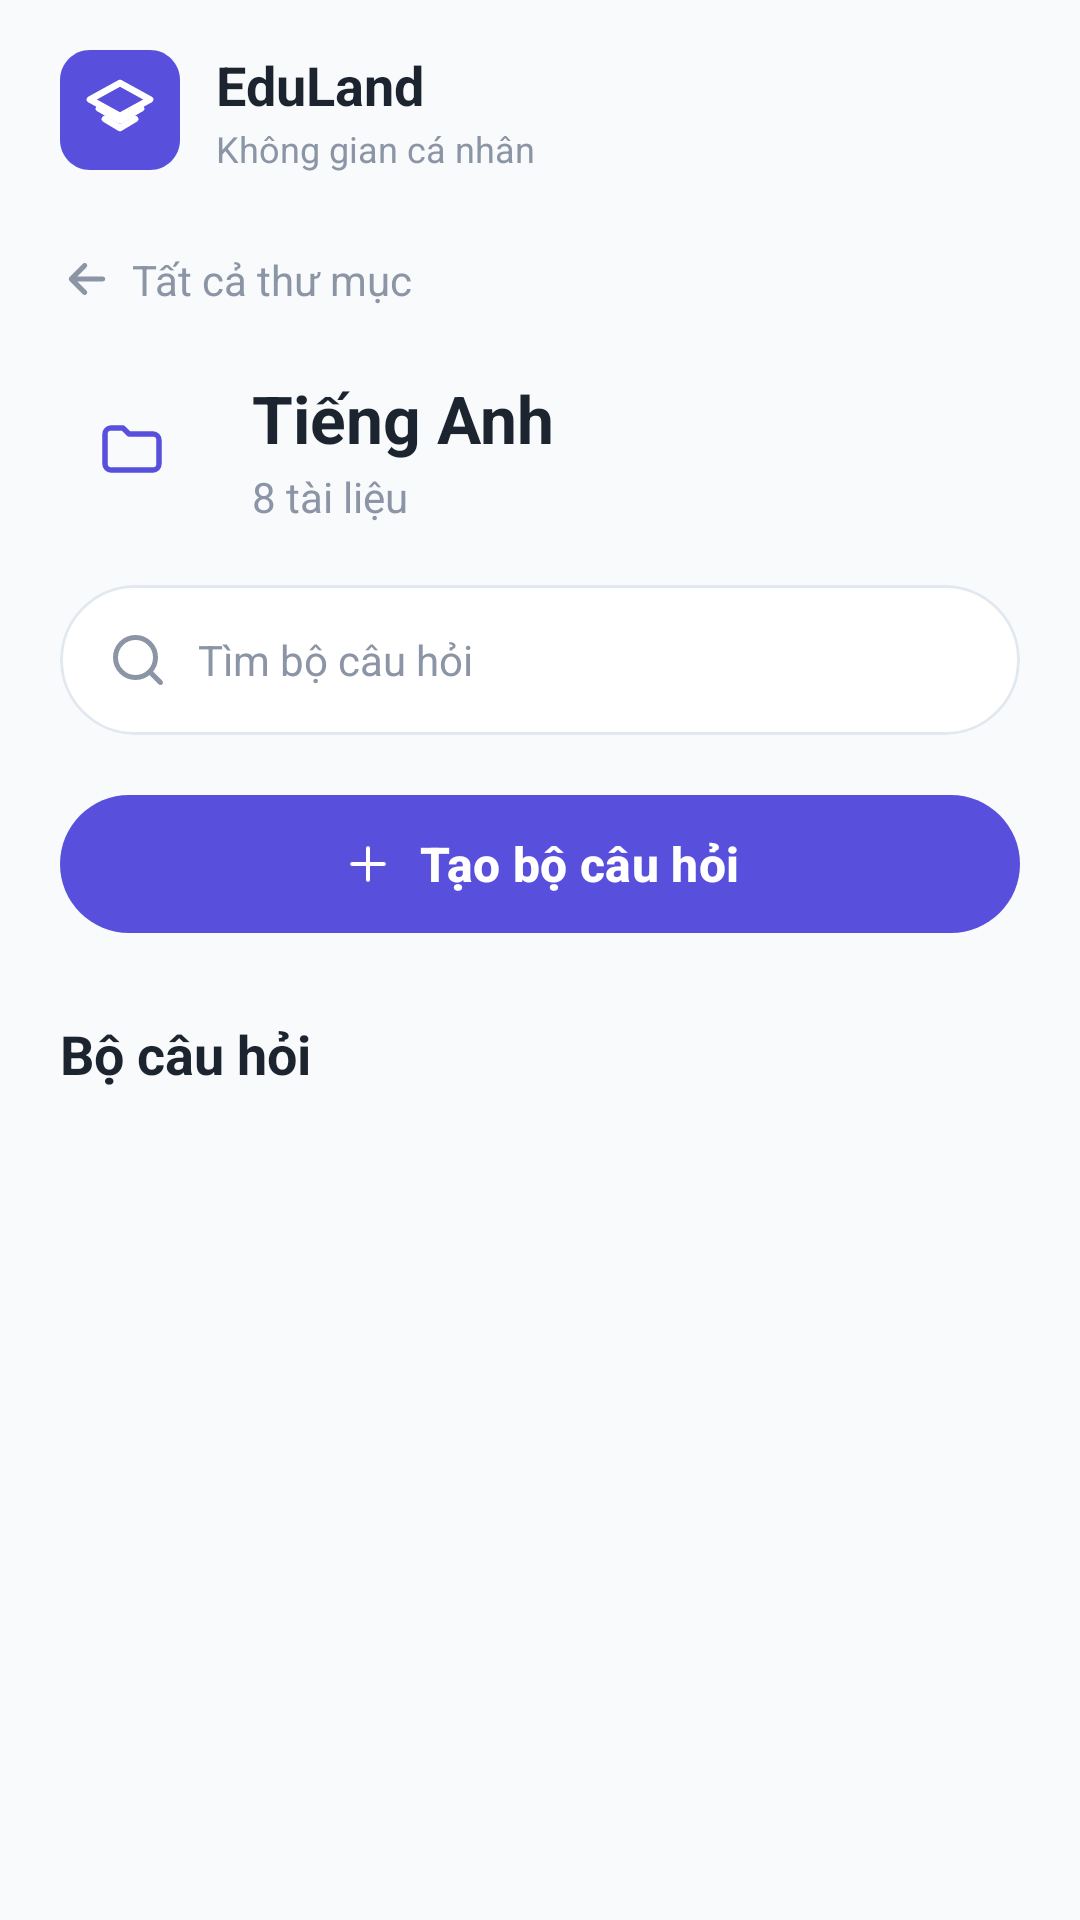

Icon click points for this 1080 x 1920 phone screenshot, format (x,y):
back: (87,279)
folder: (132,449)
search: (138,660)
